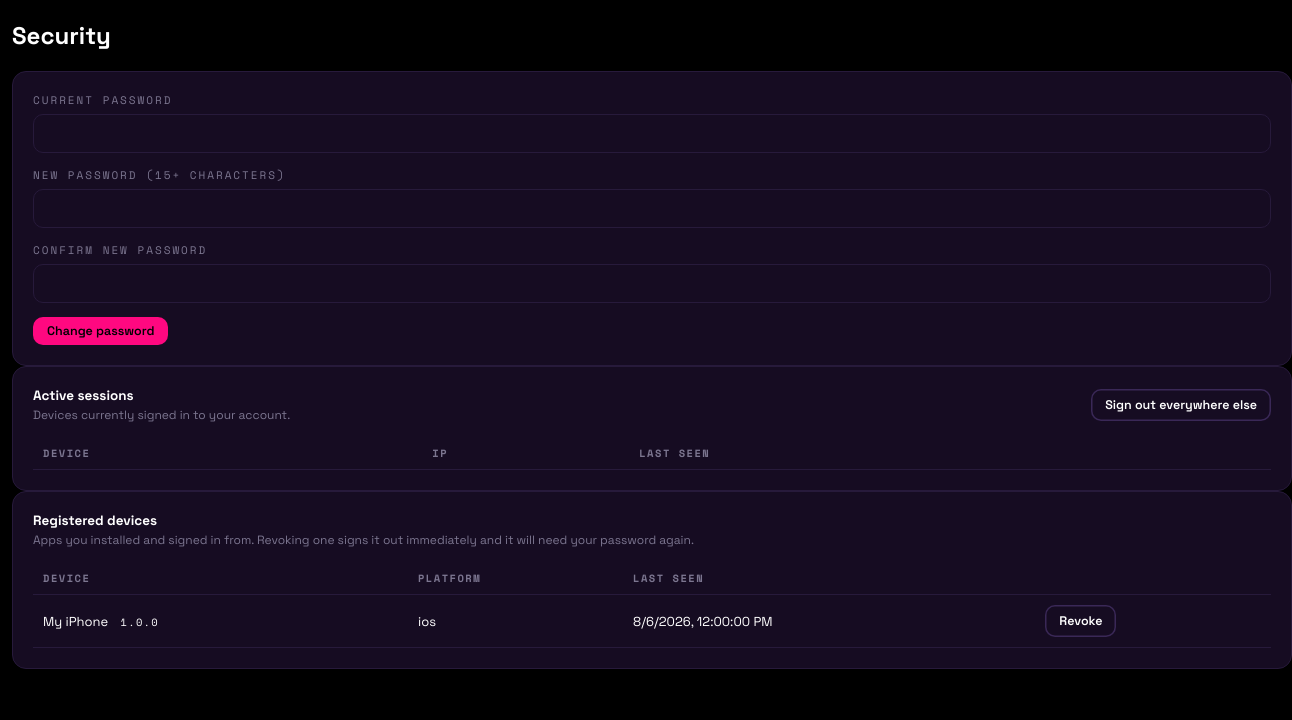
Scenario: SecuritySection registered devices › lists devices and drops one after revoking it
Expected: the text "My iPhone" is shown, [43,613,108,630]
Click the button "Revoke". click: (1081, 621)
box: [1045,605,1116,637]
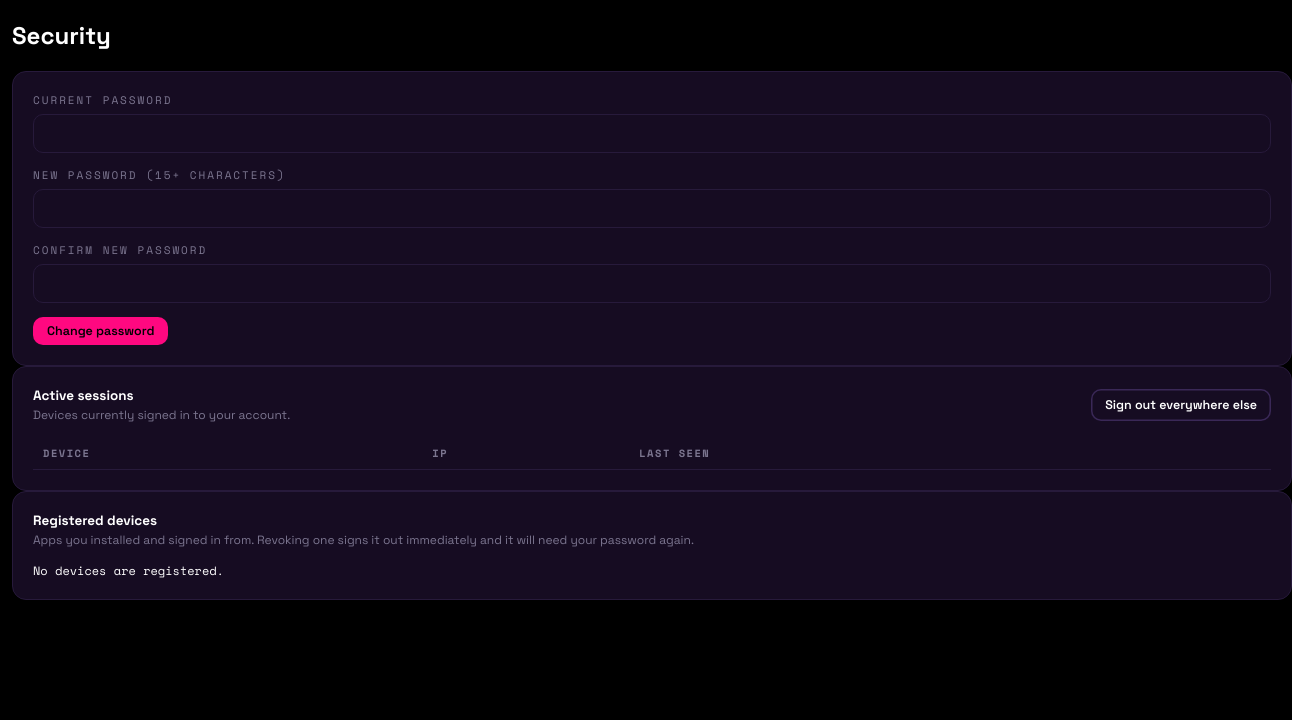
Expected: the text "My iPhone" is gone
